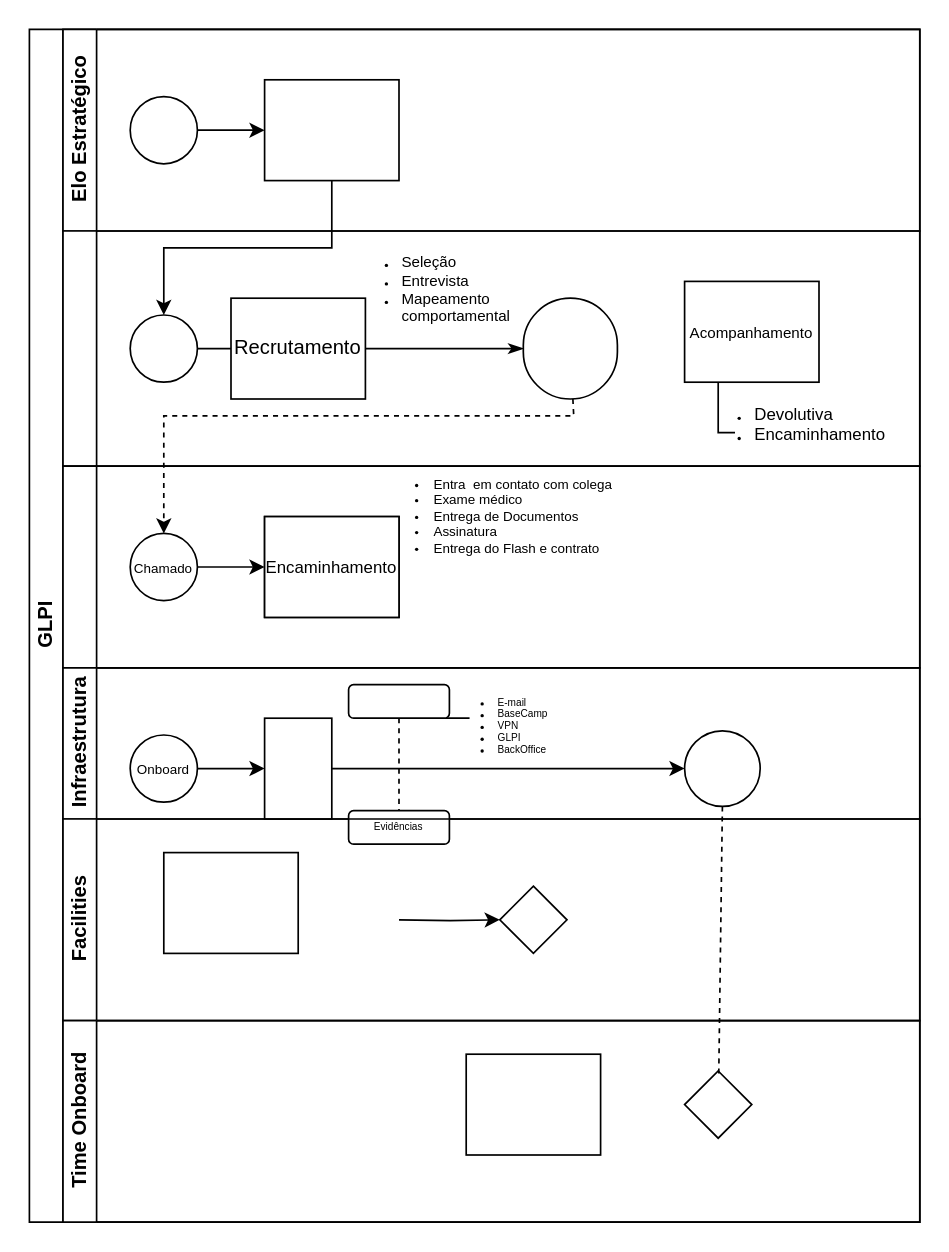
Image size: 949x1252. Some labels were removed from this diagram. Each missing label, with the box of its shape:
ADM/FIN: (61, 465, 920, 668)
BP: (61, 229, 920, 466)
Criação dos Acessos: (347, 683, 449, 718)
Mensagem automática: Onboarding: (263, 717, 332, 819)
Processo de contratação: (522, 297, 617, 399)
Solucionado: (683, 729, 760, 806)
